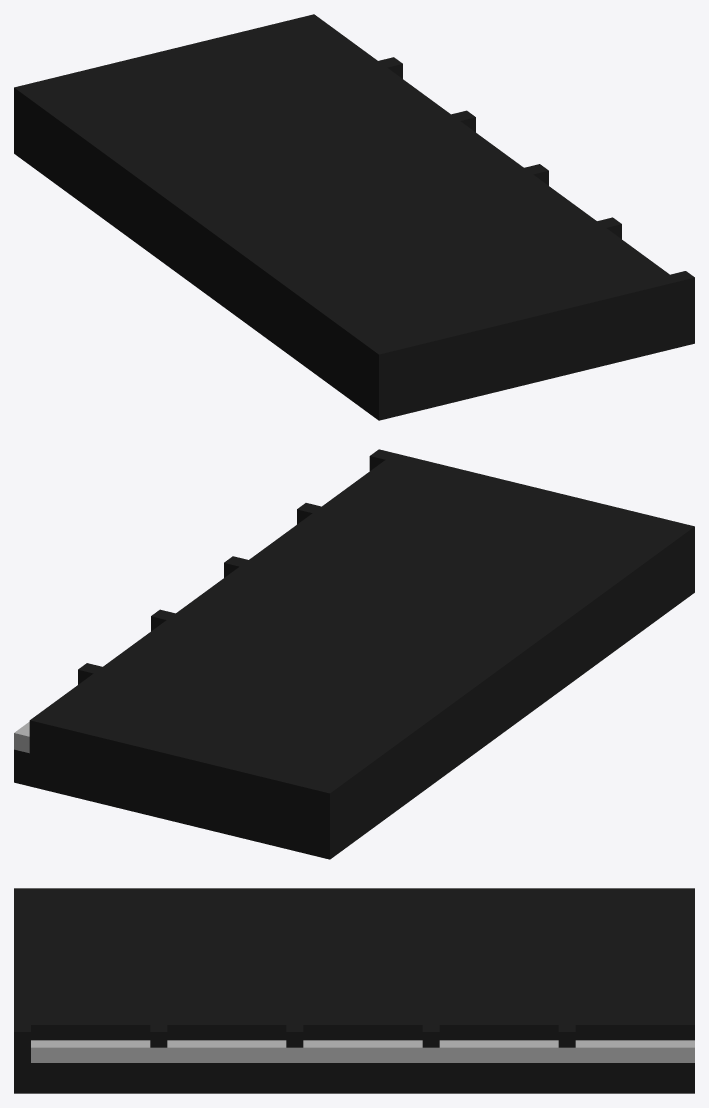
The model's file is RoadSegmentLeft.obj.
3 views of the same model, one above another, from view 1: azimuth 30°, elevation 25°; view 2: azimuth 150°, elevation 25°; view 3: azimuth 270°, elevation 25° (orthographic). The views are drawn at different scales.
Parts seen in each view (by area): view 1: RoadSegmentLeft; view 2: RoadSegmentLeft; view 3: RoadSegmentLeft.
Part boxes in pixels (box(x1,y1,x2,y2)): RoadSegmentLeft: box(14, 14, 694, 420); RoadSegmentLeft: box(14, 449, 694, 859); RoadSegmentLeft: box(14, 888, 694, 1093).
Size of the model in its own units: 20 by 4 by 40.
Materials: 1 (1 with a texture image).
